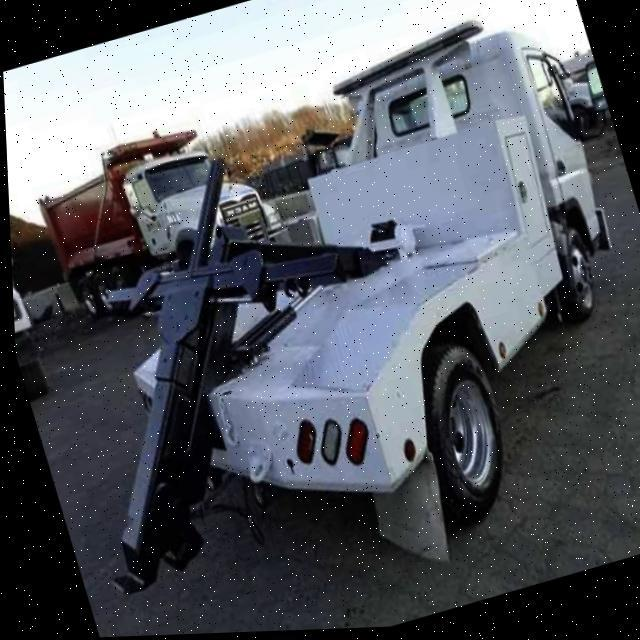truck: (0, 0, 640, 637), (22, 98, 296, 342)
